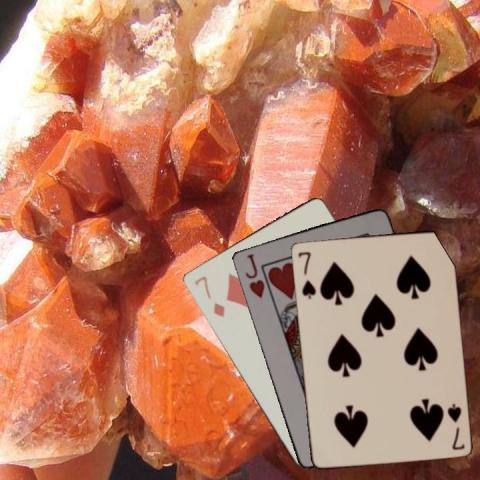7d: (191, 272, 226, 318)
7s: (294, 248, 316, 301), (444, 400, 466, 451)
Jh: (241, 251, 266, 300)
